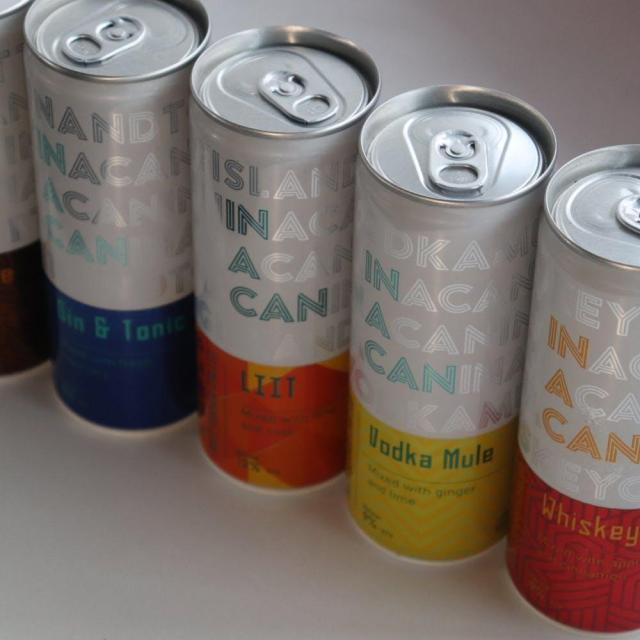can: (353, 77, 558, 559), (186, 29, 379, 491), (24, 0, 207, 429), (523, 137, 640, 639)
pop tab: (253, 59, 343, 122), (58, 10, 143, 66), (430, 127, 488, 193), (614, 184, 640, 230)
